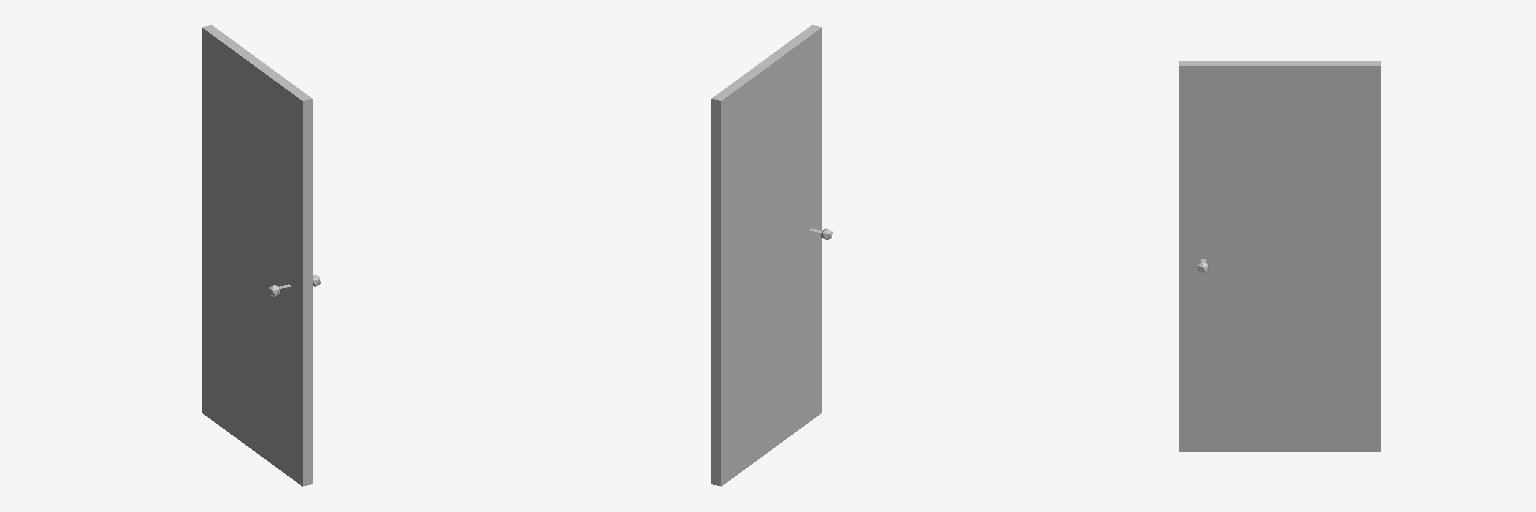
The model's file is door.obj.
3 views of the same model, side by side, from view 1: azimuth 30°, elevation 25°; view 2: azimuth 150°, elevation 25°; view 3: azimuth 270°, elevation 25° (orthographic).
Parts seen in each view (by area): view 1: Door_Icosphere; view 2: Door_Icosphere; view 3: Door_Icosphere.
Boxes of the visible parts, <box> form: Door_Icosphere: <box>202,25,320,486</box>; Door_Icosphere: <box>711,25,832,486</box>; Door_Icosphere: <box>1179,61,1380,451</box>.
Bounding box in the file's own units: 0.4526 × 3.27 × 1.55.